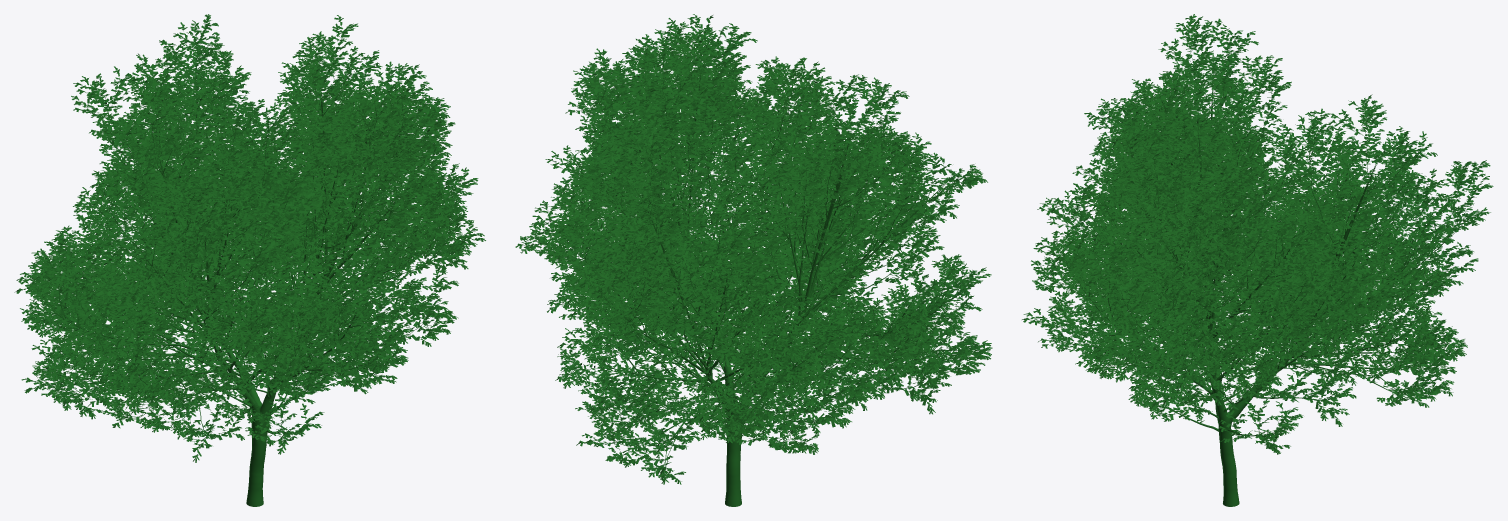
3 renders of one model, left to right at view 1: azimuth 30°, elevation 25°; view 2: azimuth 150°, elevation 25°; view 3: azimuth 270°, elevation 25°, orthographic. The views are drawn at different scales.
Parts seen in each view (by area): view 1: bq_Tree_Carpinus-betulus_C_summer.015; view 2: bq_Tree_Carpinus-betulus_C_summer.015; view 3: bq_Tree_Carpinus-betulus_C_summer.015.
Part boxes in pixels (box(x1,y1,x2,y2)): bq_Tree_Carpinus-betulus_C_summer.015: box(14, 14, 485, 506); bq_Tree_Carpinus-betulus_C_summer.015: box(515, 14, 992, 506); bq_Tree_Carpinus-betulus_C_summer.015: box(1022, 14, 1493, 506).
Size of the model in its own units: 4.98 by 4.92 by 4.87.
